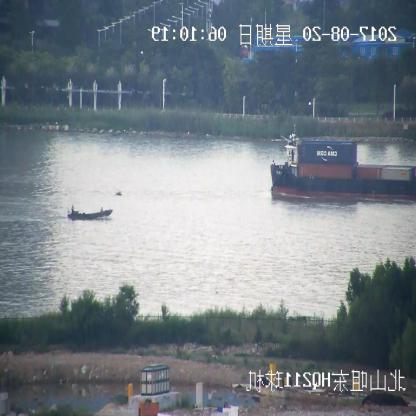Fishing Boat: (68, 204, 113, 222)
